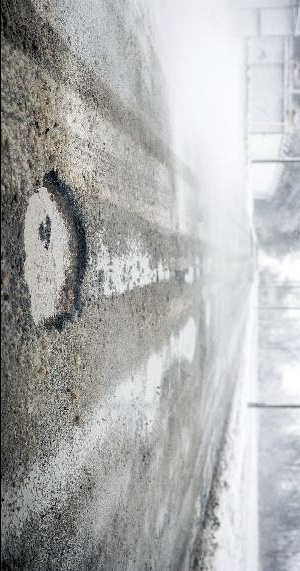pothole: (21, 165, 93, 337)
